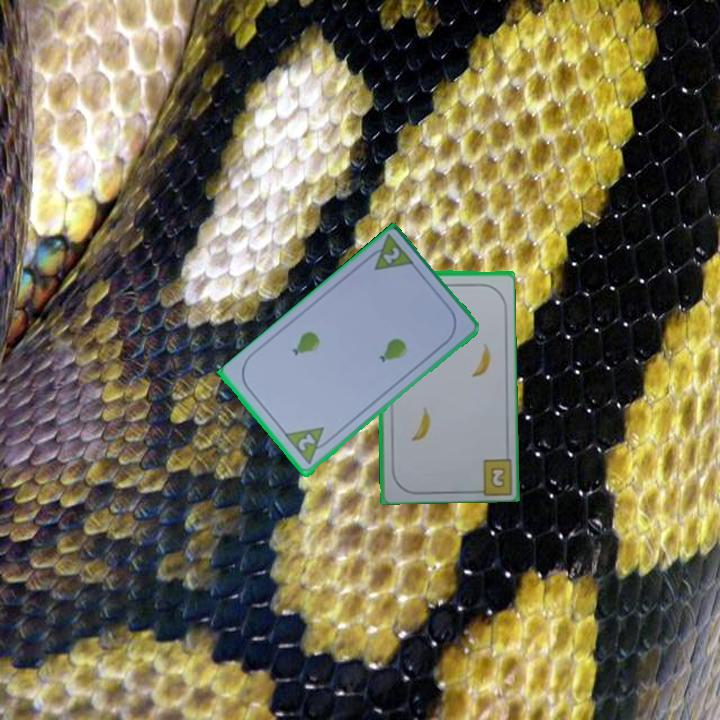2b: (487, 463, 508, 491)
2p: (361, 232, 418, 274), (282, 424, 335, 468)
